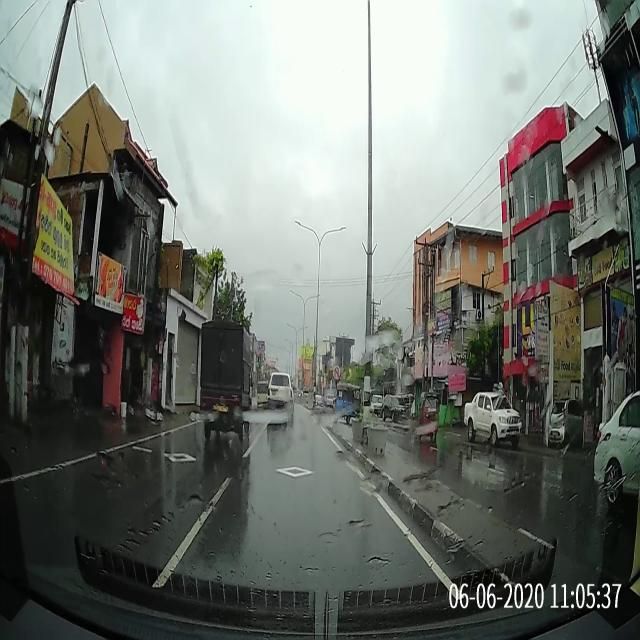diamond: (213, 448, 380, 491)
